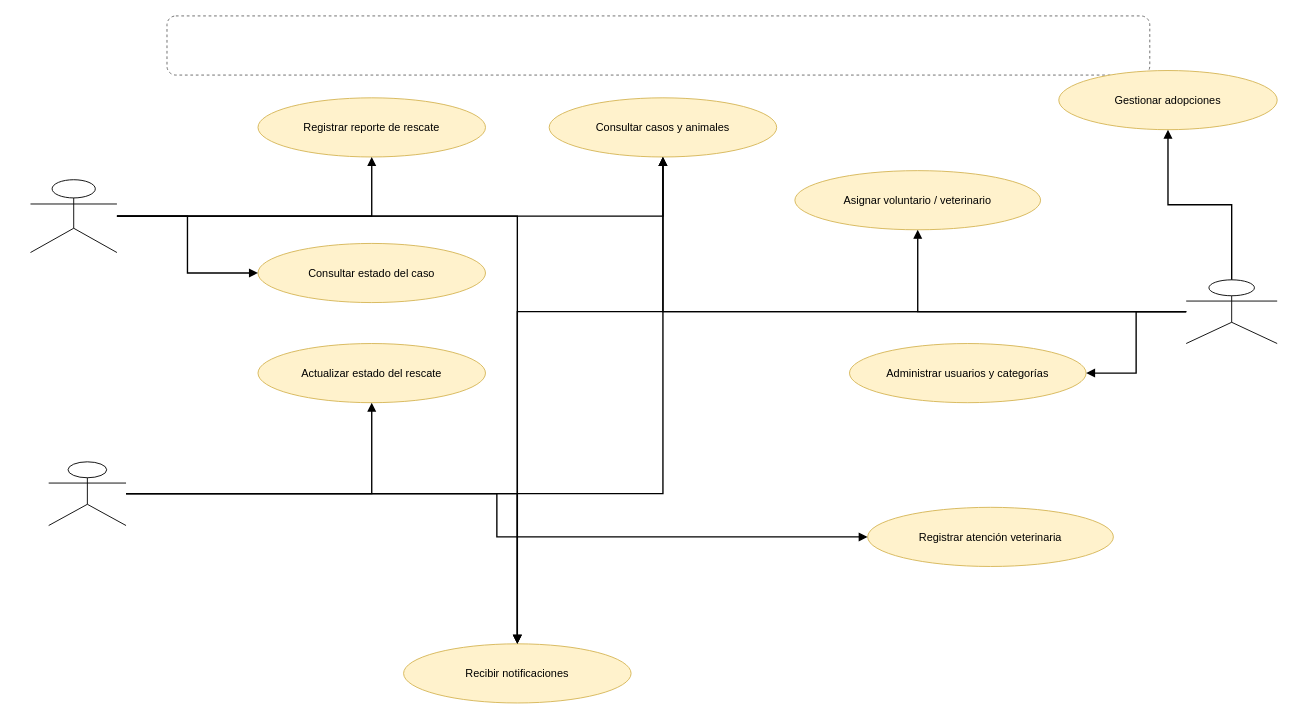
Image size: 1308x719. Some labels were removed from this diagram. Here are the shapes that lost their labels. From the top down, the centre of each, then its label:
At pixel 658 45: "Sistema de Control de Rescate y Adopción Animal".
At pixel 73 216: "Ciudadano / Reportante".
At pixel 1231 311: "Administrador del refugio".
At pixel 87 493: "Voluntario / Veterinario".
